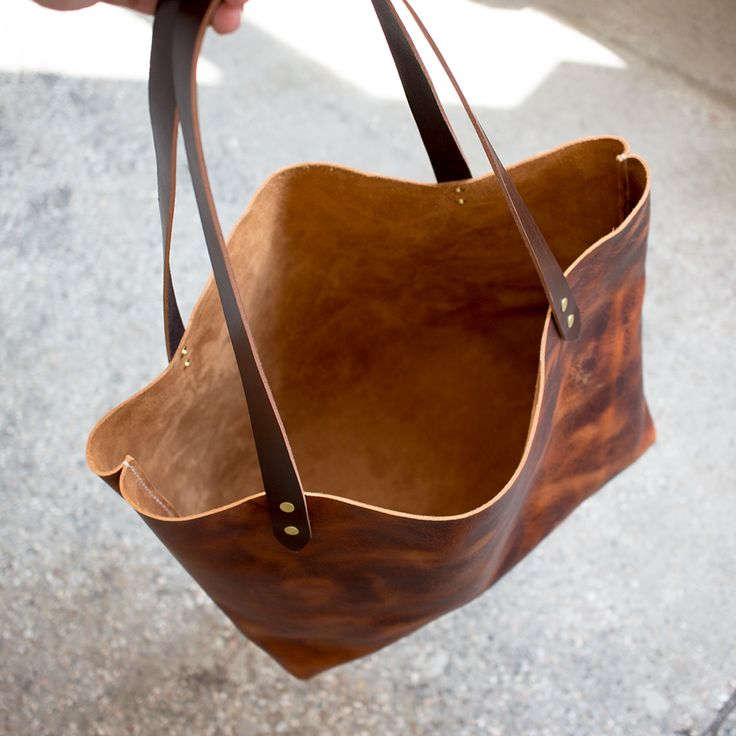cuero: (81, 1, 660, 681)
